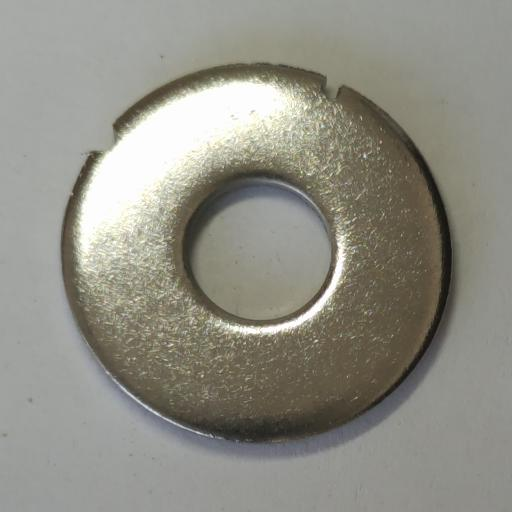burr: (91, 124, 119, 153), (320, 76, 341, 99)
